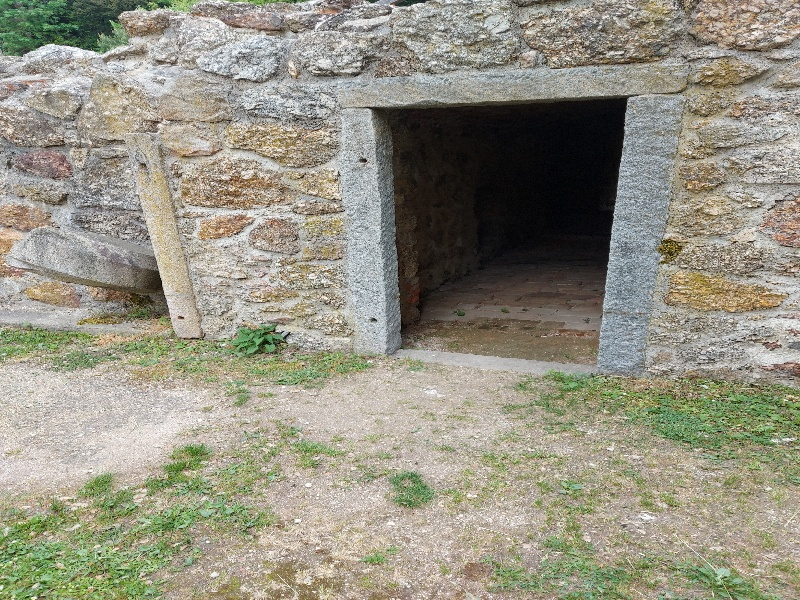door2: (333, 61, 678, 394)
